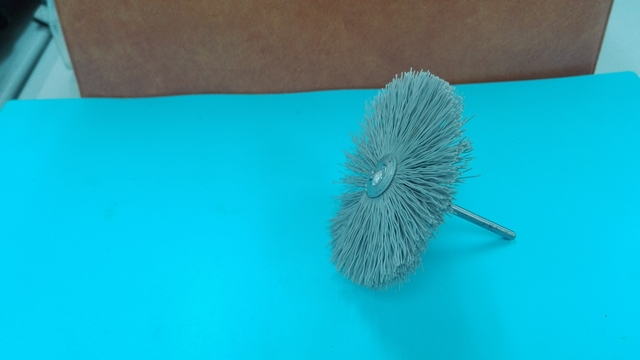TOOL: (186, 35, 608, 326), (314, 64, 579, 298), (244, 61, 476, 296), (353, 66, 534, 296), (271, 75, 429, 296)
